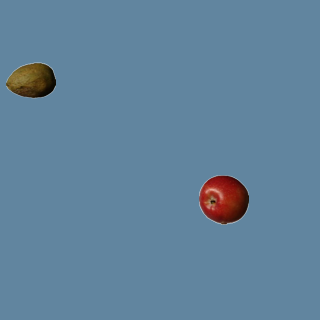Apple Braeburn: (198, 174, 248, 224)
Papaya: (5, 55, 55, 105)
